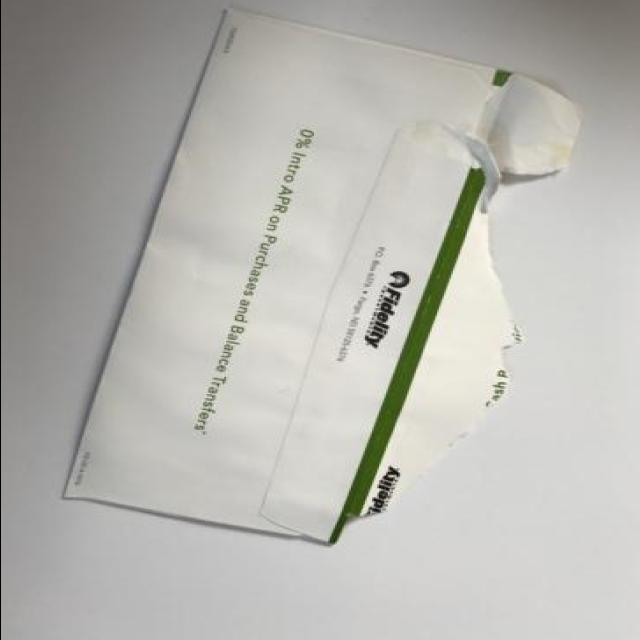kertas: (57, 8, 583, 548)
